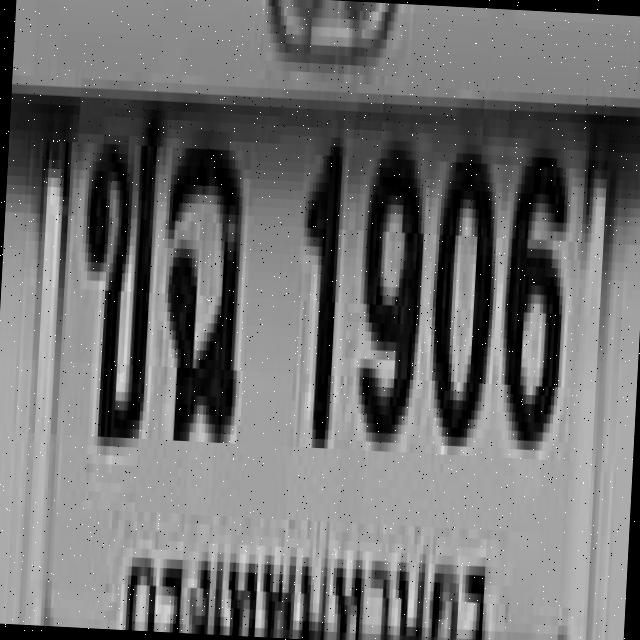0: (426, 120, 499, 434)
1: (294, 123, 344, 435)
18ChorChing: (155, 115, 247, 430)
19ChorChang: (72, 88, 166, 440)
6: (498, 124, 568, 437)
9: (354, 121, 427, 435)
